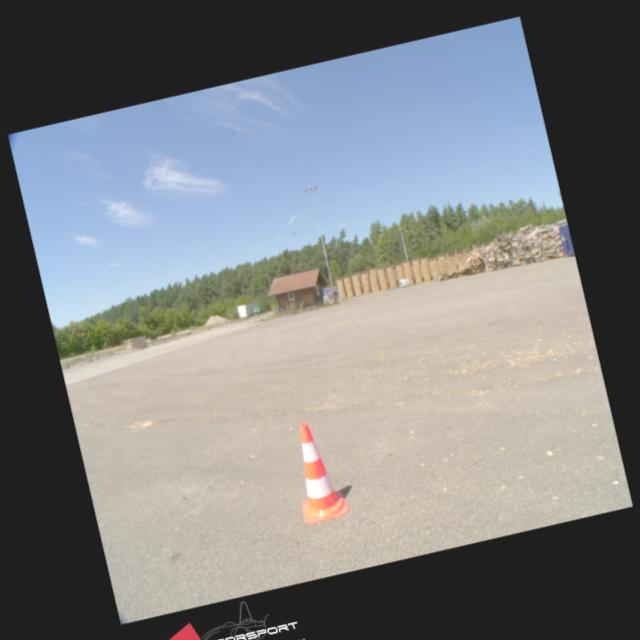large_orange_cone: (282, 417, 348, 524)
